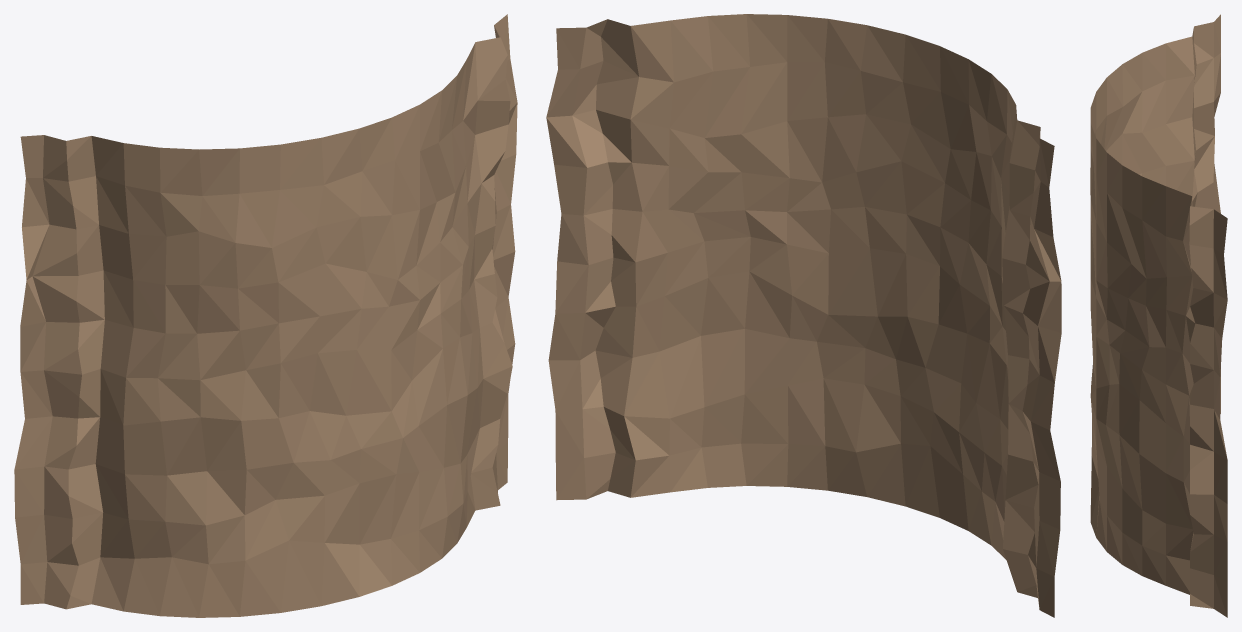
The model's file is Map_002.FBX.
3 views of the same model, side by side, from view 1: azimuth 30°, elevation 25°; view 2: azimuth 150°, elevation 25°; view 3: azimuth 270°, elevation 25° (orthographic). The views are drawn at different scales.
Parts seen in each view (by area): view 1: Map_002; view 2: Map_002; view 3: Map_002.
Boxes of the visible parts, x1=… form: Map_002: x1=14, y1=14, x2=517, y2=617; Map_002: x1=546, y1=14, x2=1061, y2=617; Map_002: x1=1090, y1=14, x2=1227, y2=617.
Size of the model in its own units: 12.46 by 11 by 3.43.
1 material, 1 textured.
